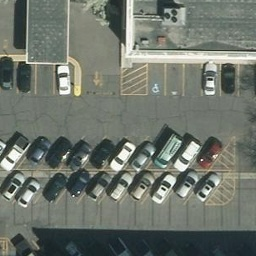car: (5, 134, 30, 170), (26, 133, 51, 169), (47, 132, 72, 168), (68, 135, 93, 171), (89, 132, 114, 168), (108, 136, 133, 172), (129, 135, 154, 171), (158, 132, 183, 168), (172, 137, 197, 173), (201, 132, 226, 168), (197, 171, 222, 207), (173, 167, 198, 203), (152, 170, 177, 206), (129, 169, 154, 205), (107, 168, 132, 204), (91, 165, 116, 201), (67, 167, 92, 203), (42, 166, 67, 202), (16, 173, 41, 209), (2, 167, 27, 203), (58, 63, 72, 96), (202, 62, 216, 95), (221, 60, 235, 93), (23, 61, 37, 93), (1, 58, 14, 90)
